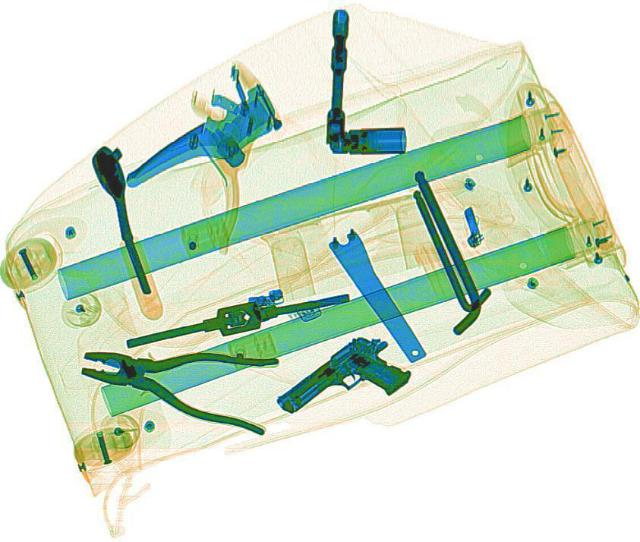Gun: (270, 324, 422, 441)
Pliers: (70, 324, 286, 433)
